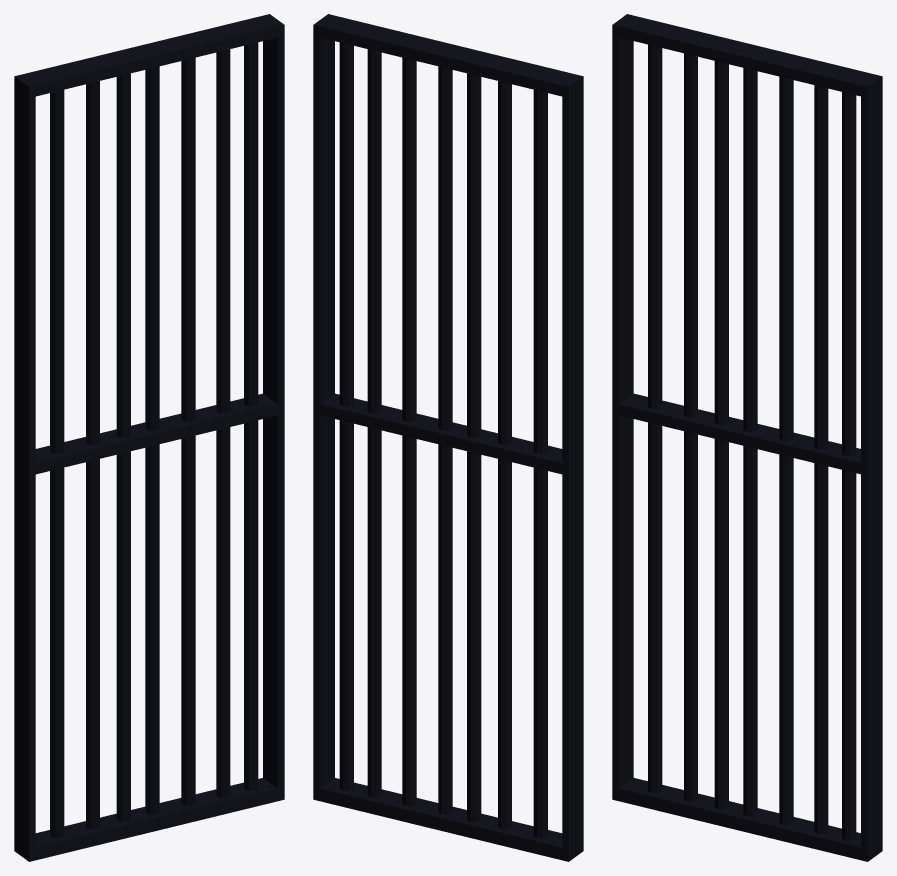
File: lattice.glb
The picture shows the model from 3 angles, left to right: view 1: azimuth 30°, elevation 25°; view 2: azimuth 150°, elevation 25°; view 3: azimuth 330°, elevation 25°; orthographic projection.
Visible parts, largest first — view 1: lattice; view 2: lattice; view 3: lattice.
Part boxes in pixels (x1,y1,x2,y2): lattice: (14, 14, 284, 861); lattice: (313, 14, 583, 861); lattice: (612, 14, 882, 861).
Bounding box in the file's own units: 1 × 2.9 × 0.1.
1 material, 1 textured.
